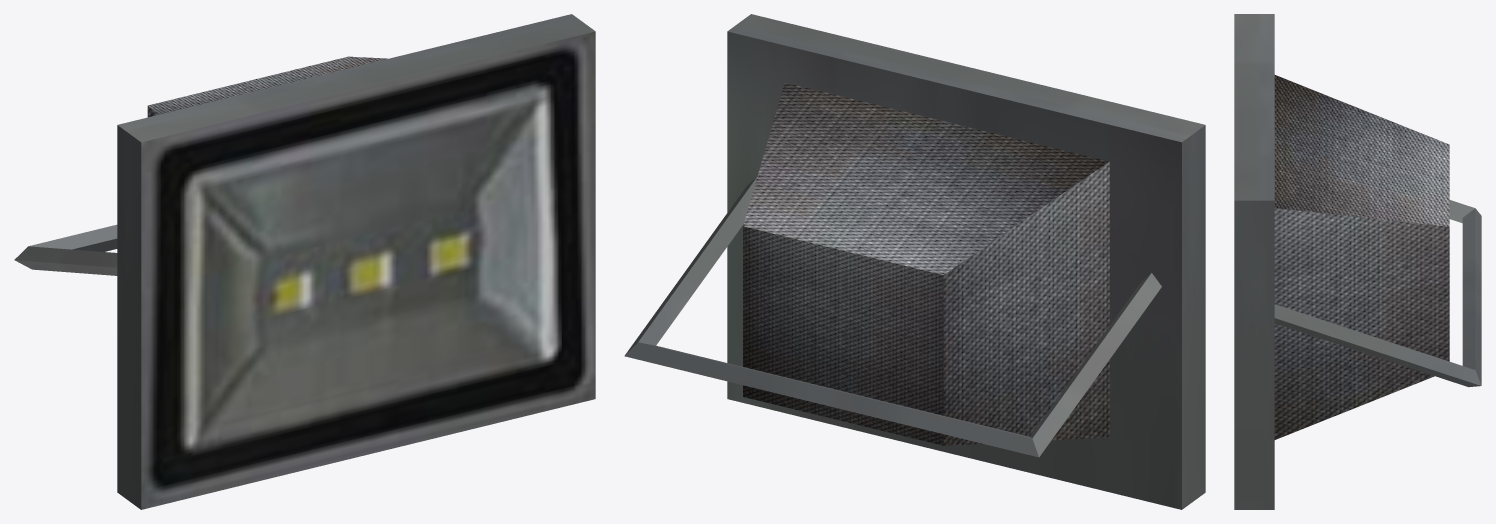
The model's file is floodlights_01.obj.
The picture shows the model from 3 angles, left to right: view 1: azimuth 30°, elevation 25°; view 2: azimuth 150°, elevation 25°; view 3: azimuth 270°, elevation 25°; orthographic projection. The views are drawn at different scales.
Parts seen in each view (by area): view 1: Box001, Line001, Box002; view 2: Box002, Box001, Line001; view 3: Box002, Box001, Line001.
Boxes of the visible parts, x1,y1,x2,y2 form: Box001: [117, 14, 595, 509]; Line001: [14, 224, 117, 275]; Box002: [147, 56, 387, 117]; Box002: [743, 82, 1109, 445]; Box001: [727, 14, 1205, 509]; Line001: [624, 177, 1161, 457]; Box002: [1274, 75, 1449, 439]; Box001: [1234, 14, 1274, 509]; Line001: [1274, 200, 1481, 387].
Bounding box in the file's own units: 387 × 299 × 216.
